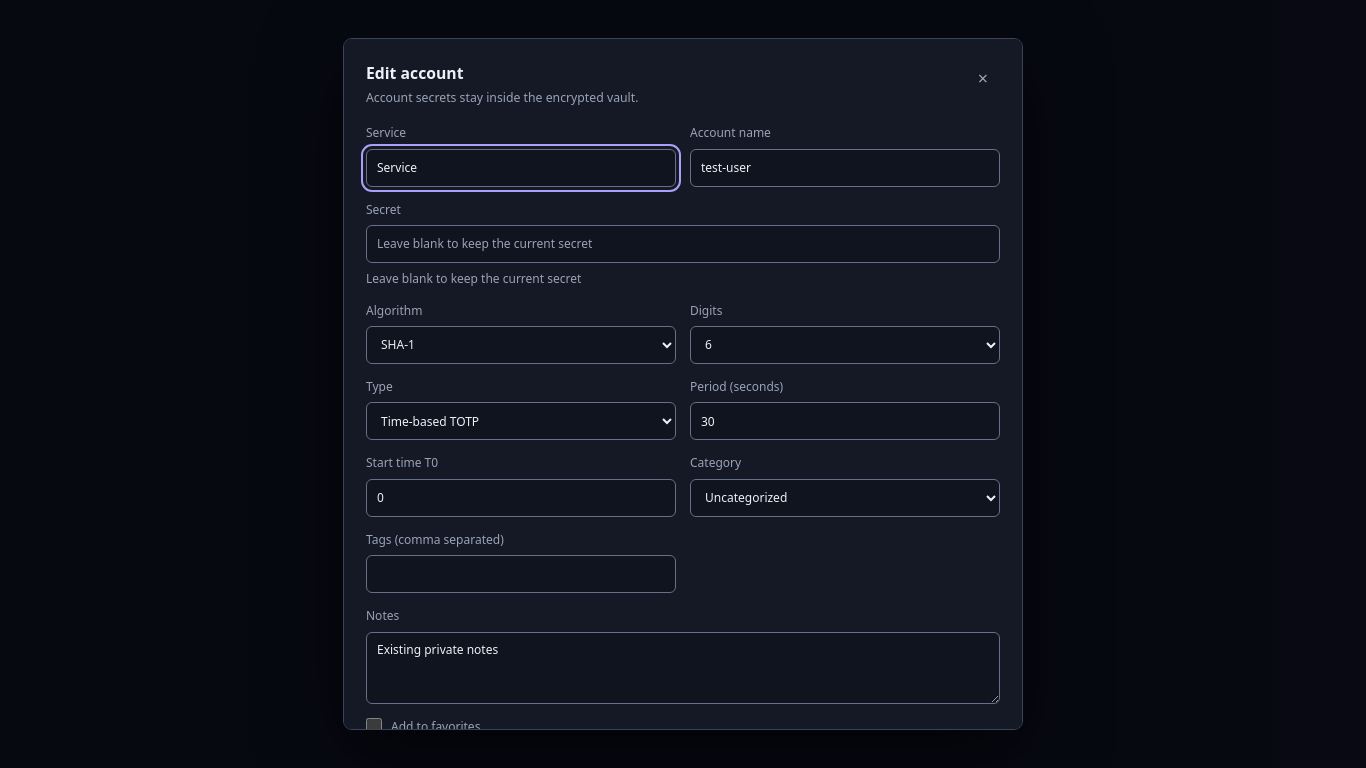
Test: AccountDialog › allows explicit cancellation of replacement to preserve the current secret in en
The image size is (1366, 768).
Later steps or results of the test are not shown.
Expected: the text box labelled "Notes" is enabled, [366,632,1000,704]
In the password field labelled "Secret": point(683, 244) [366,225,1000,263], type "JBSWY3DPEHPK3PXP"
(page scrolled)
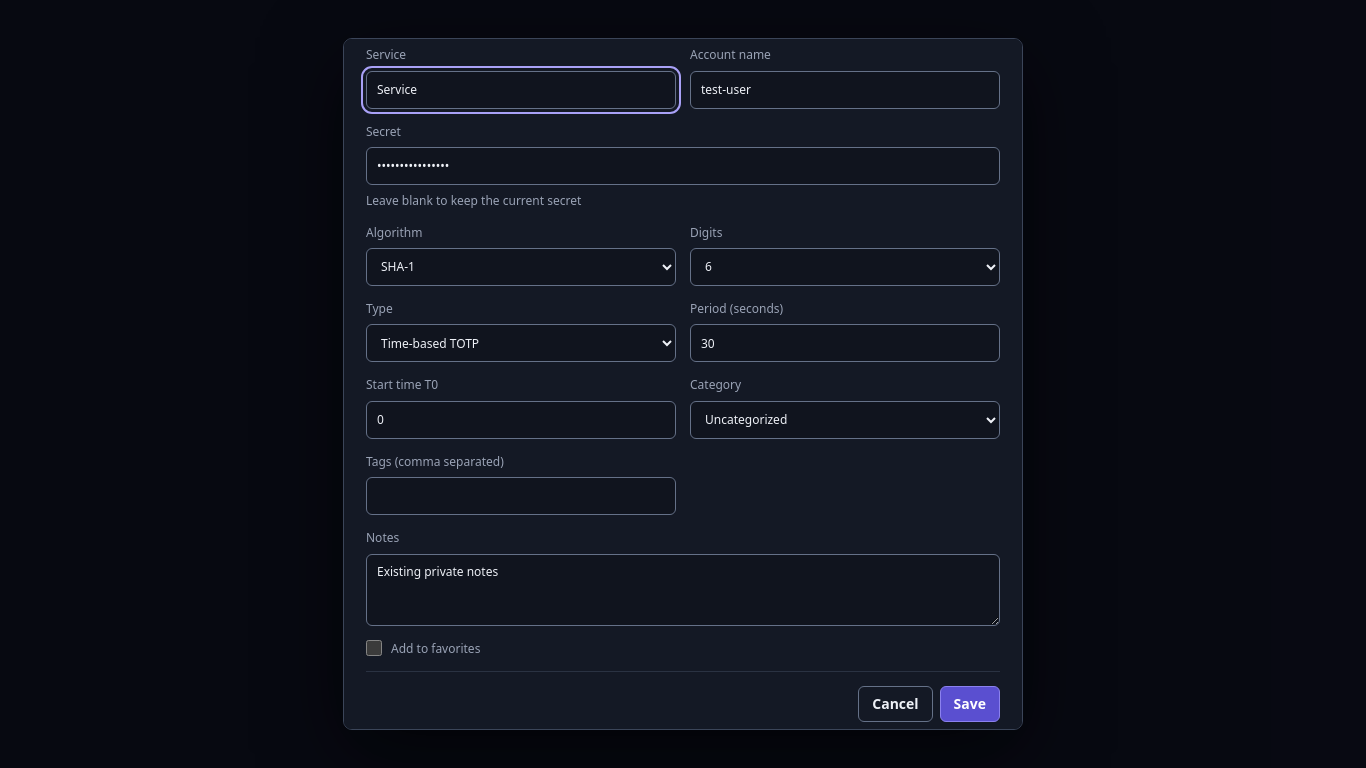
Submit the form, box [366,46,1000,722]
(page scrolled)
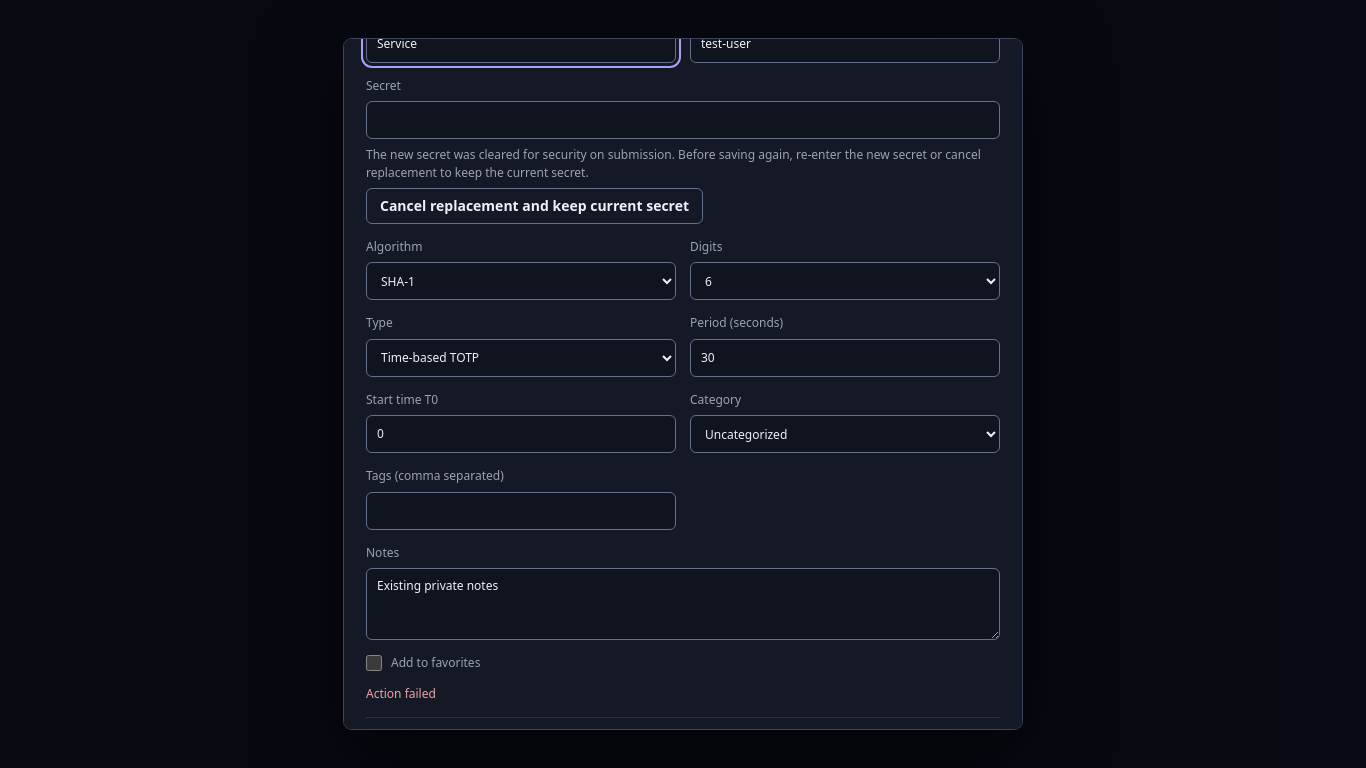
Now the password field labelled "Secret" is empty, box [366,101,1000,139]
Submit the form, box [366,0,1000,767]
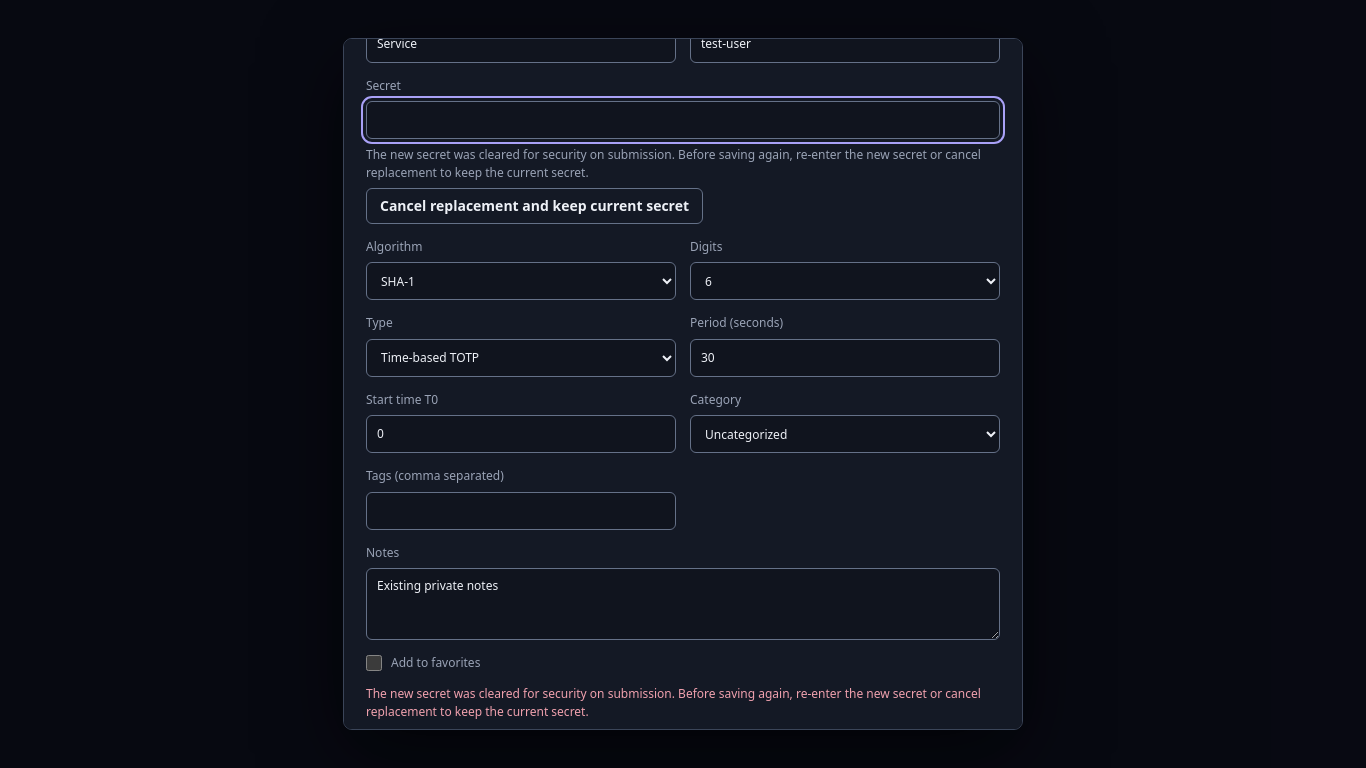
Now the message shows "The new secret was cleared for security on submission. Before saving again, re-enter the new secret or cancel replacement to keep the current secret.", box [366,685,981,720]
In the password field labelled "Secret": point(683, 120) [366,101,1000,139], type "MZXW6YTBOI"
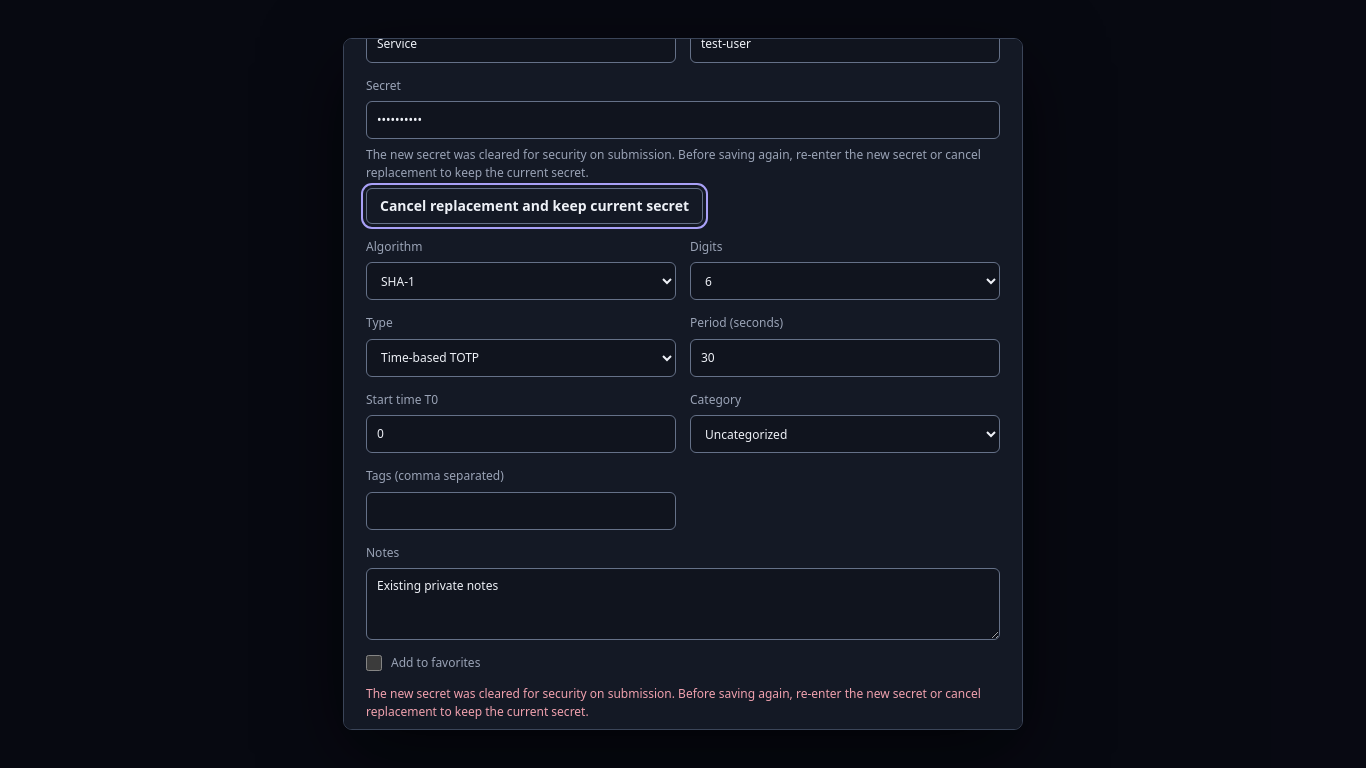
Click the button "Cancel replacement and keep current secret": point(535, 206) [366,188,703,224]
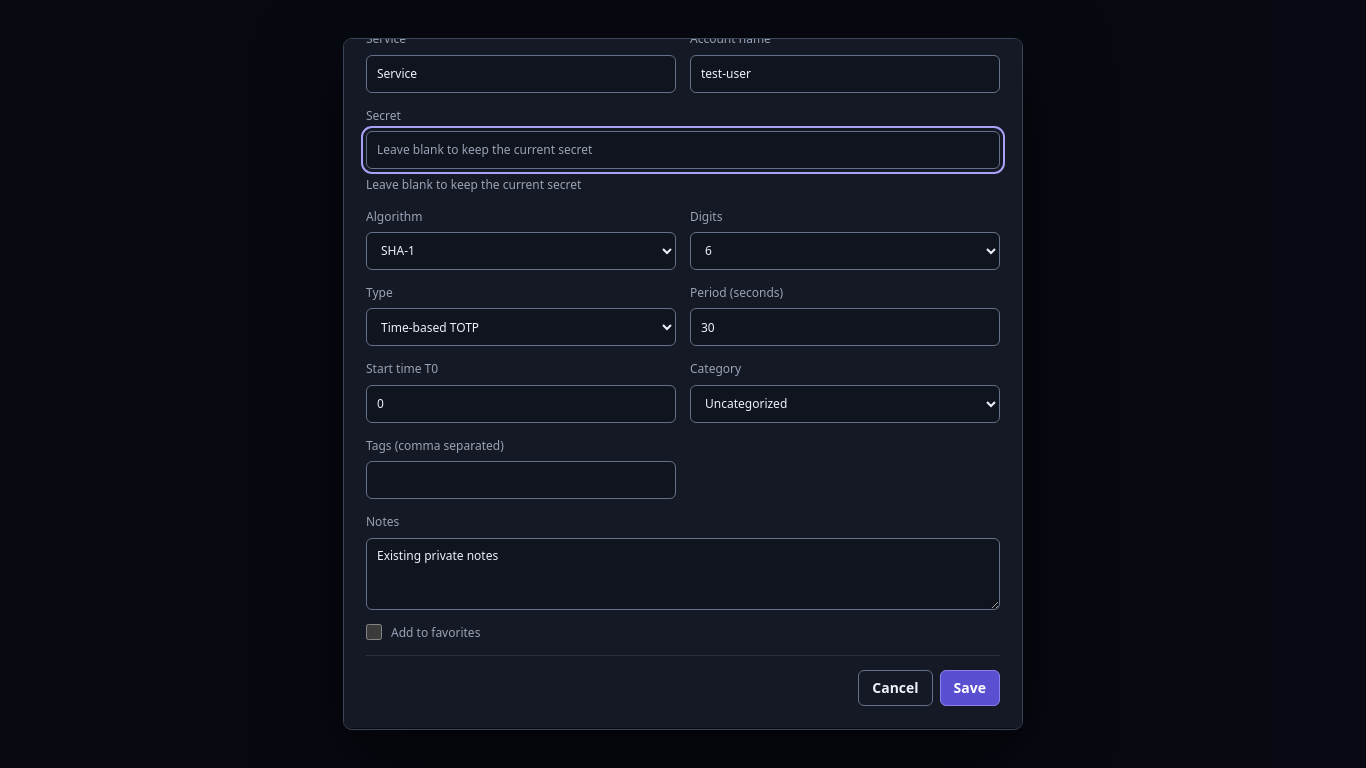
Now the password field labelled "Secret" is empty, box [366,131,1000,169]
Now the button "Cancel replacement and keep current secret" is gone
Now the message is gone
